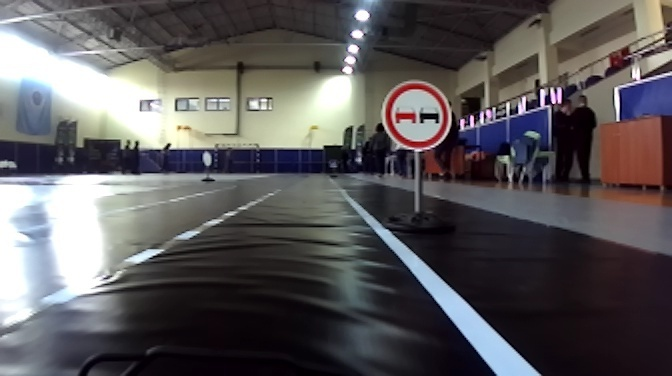sollama_yasak: (381, 80, 453, 152)
